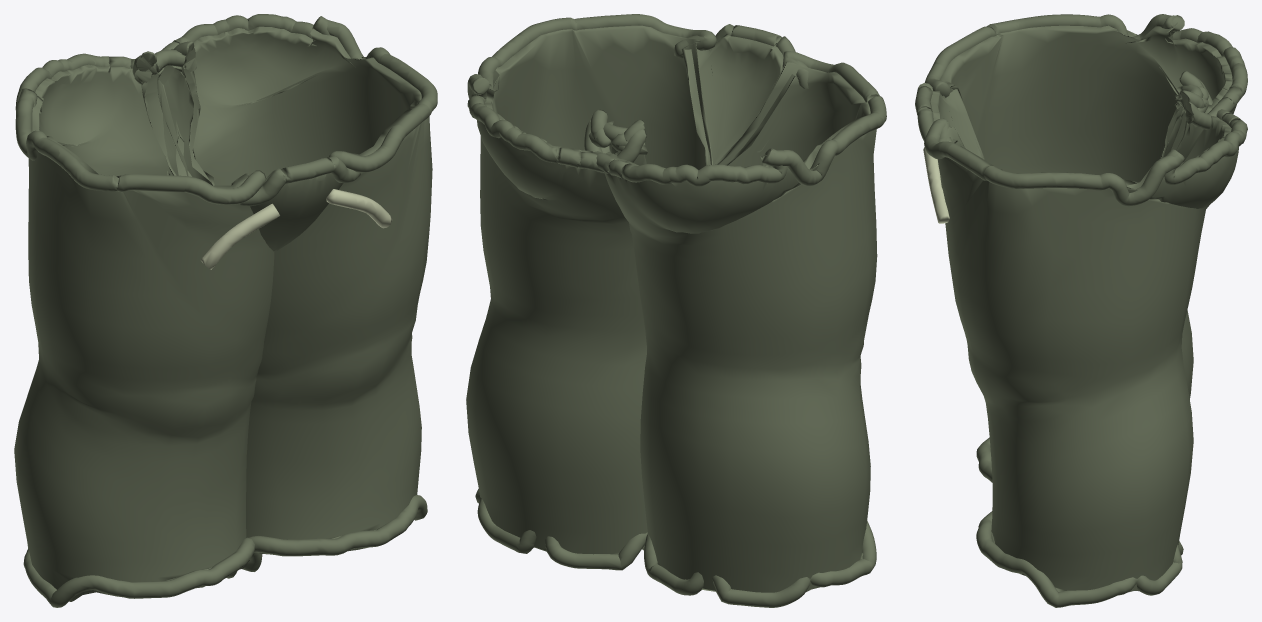
File: 3HT-masculino.glb
3 views of the same model, side by side, from view 1: azimuth 30°, elevation 25°; view 2: azimuth 150°, elevation 25°; view 3: azimuth 270°, elevation 25° (orthographic). The views are drawn at different scales.
Visible parts, largest first — view 1: fitted-shell, bound-edge (×3), pocket--1, pocket-1; view 2: fitted-shell, bound-edge (×3); view 3: fitted-shell, bound-edge (×3), pocket-1.
Boxes of the visible parts, box(x1,y1,x2,y2) form: fitted-shell: box(14, 26, 432, 601); bound-edge (×3): box(15, 14, 437, 607); pocket--1: box(200, 203, 279, 269); pocket-1: box(326, 189, 392, 228); fitted-shell: box(466, 25, 877, 592); bound-edge (×3): box(467, 14, 886, 607); fitted-shell: box(930, 22, 1239, 592); bound-edge (×3): box(915, 14, 1247, 607); pocket-1: box(923, 147, 949, 223).
Size of the model in its own units: 0.0342 by 0.0415 by 0.0277.
